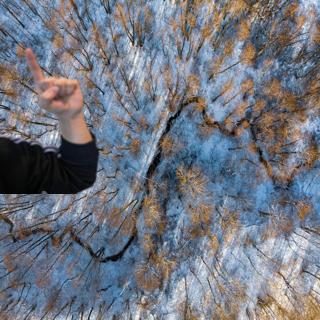IRRITATED: (22, 46, 87, 117)
